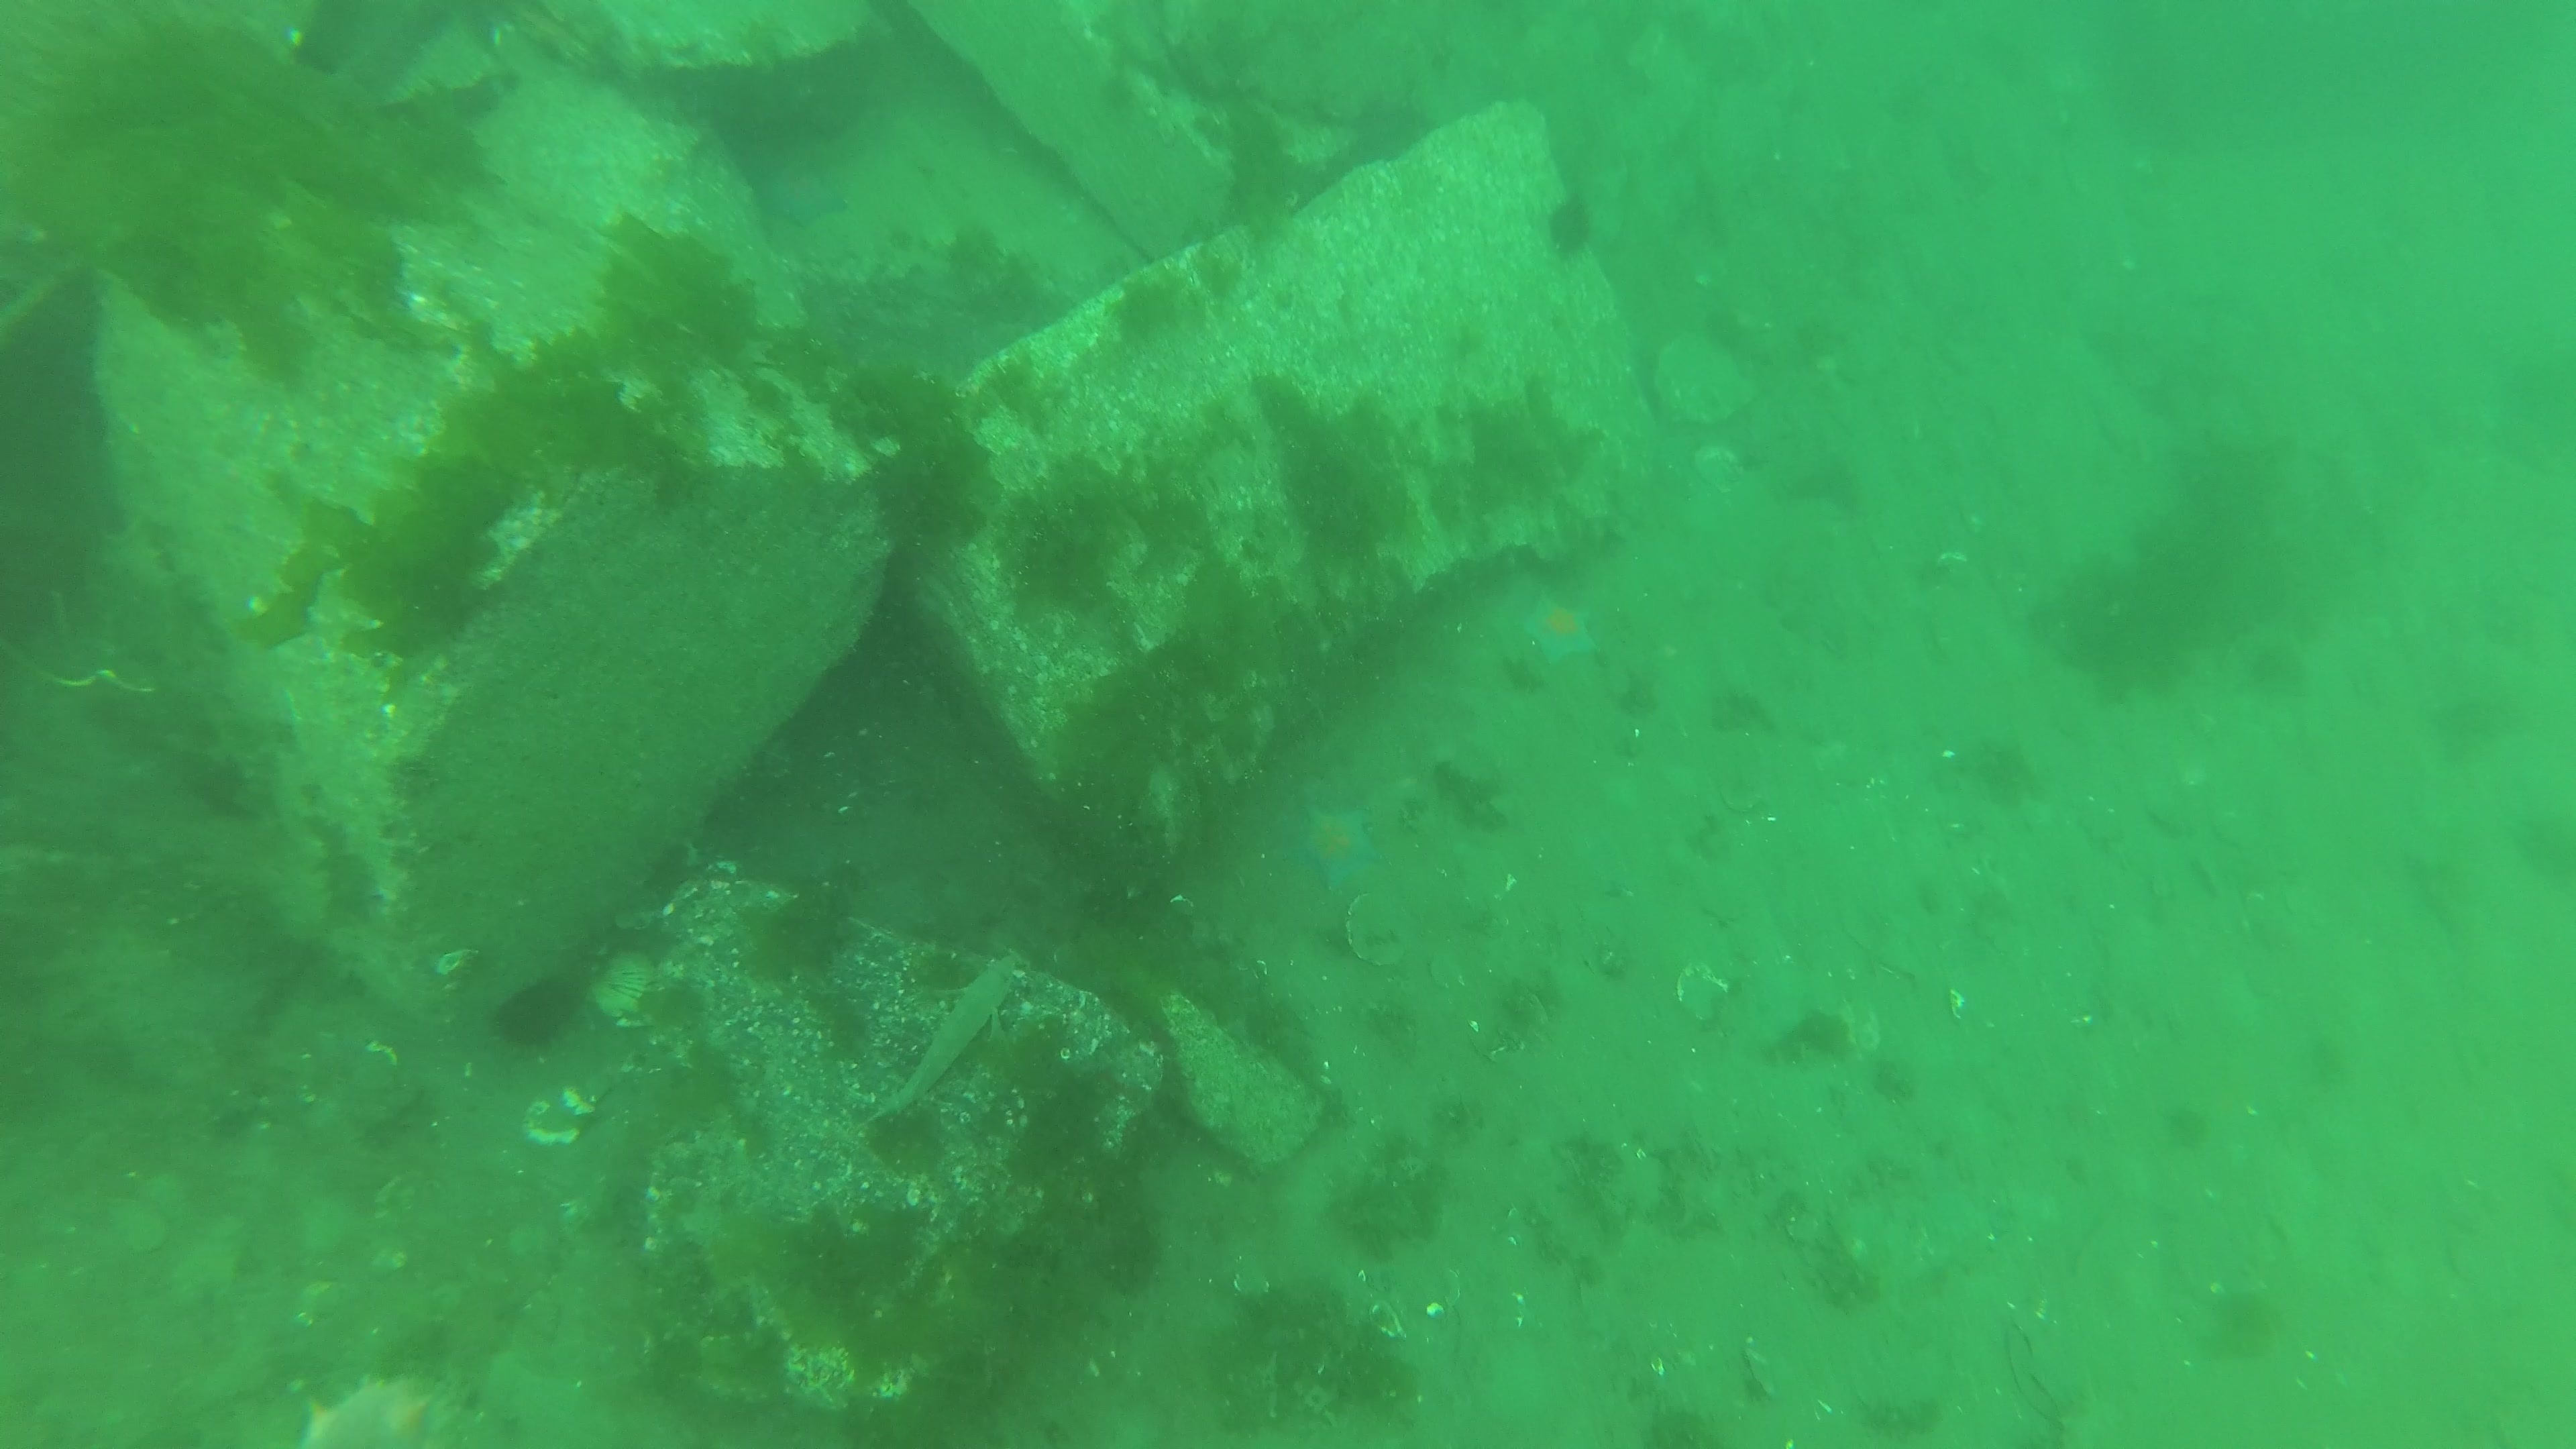echinus: (492, 977, 584, 1049), (180, 754, 249, 817), (1546, 191, 1596, 257)
holothurian: (297, 1373, 449, 1449)
scallop: (1343, 886, 1419, 964), (591, 948, 662, 1019), (1674, 957, 1732, 1023), (1691, 439, 1748, 495)
starfish: (1297, 800, 1382, 893), (1516, 586, 1601, 667), (764, 170, 849, 228)
